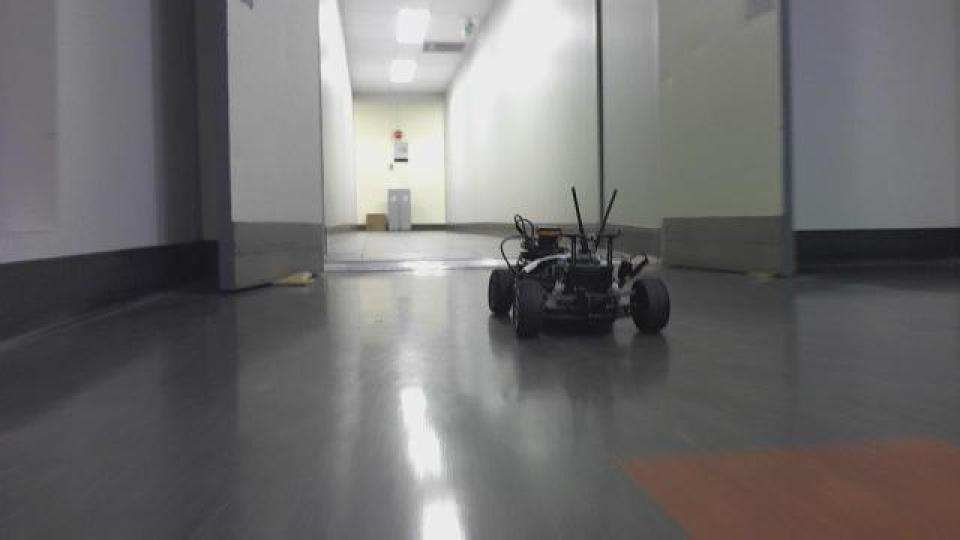car: (483, 183, 673, 342)
